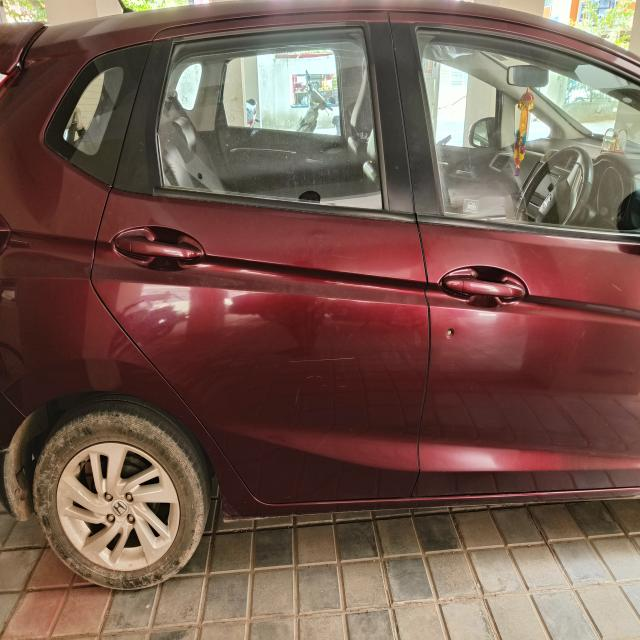scratch: (314, 426, 334, 459), (289, 357, 355, 362), (295, 388, 300, 406), (306, 374, 322, 379), (611, 284, 622, 291), (333, 376, 342, 379), (322, 383, 328, 387), (338, 386, 346, 388)
